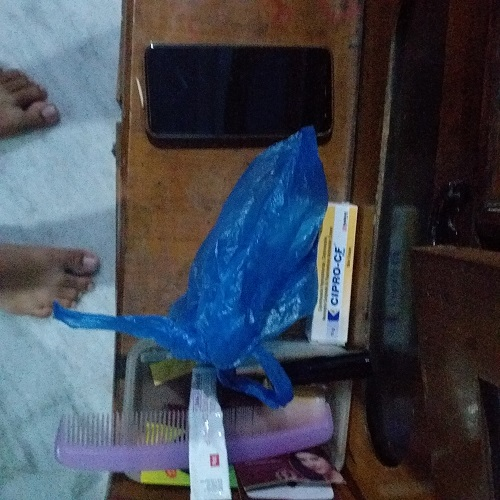mobile: (127, 39, 351, 156)
